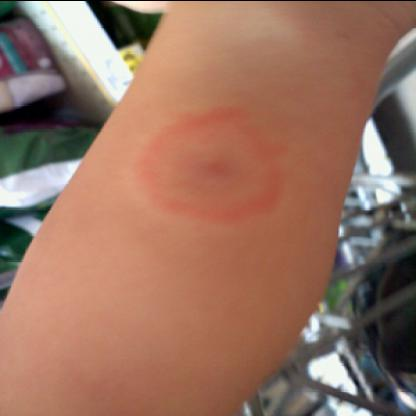Tick: (134, 102, 284, 234)
